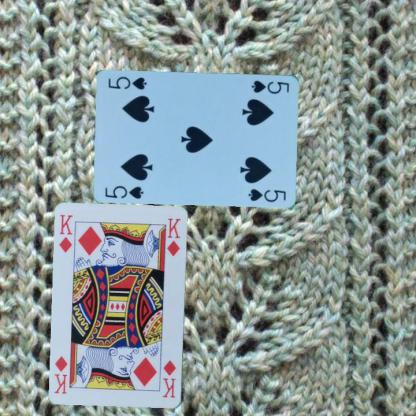5s: (249, 77, 291, 95), (103, 182, 145, 200)
Kd: (57, 212, 74, 254), (160, 358, 177, 399)
